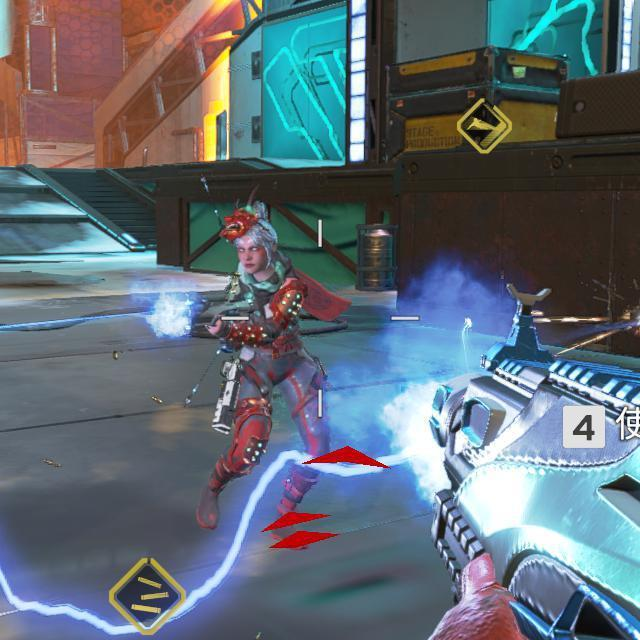avatar: (193, 200, 331, 550)
